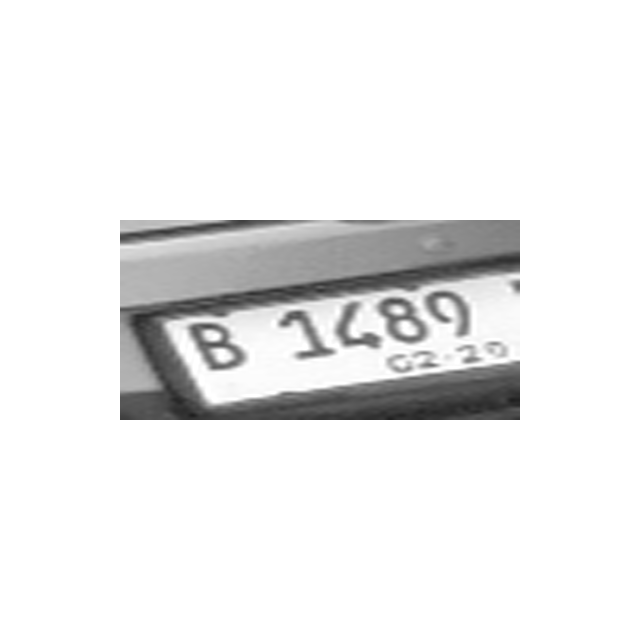contain: (182, 314, 248, 371), (275, 304, 337, 360), (424, 288, 477, 339), (333, 300, 384, 351), (380, 294, 430, 346)
